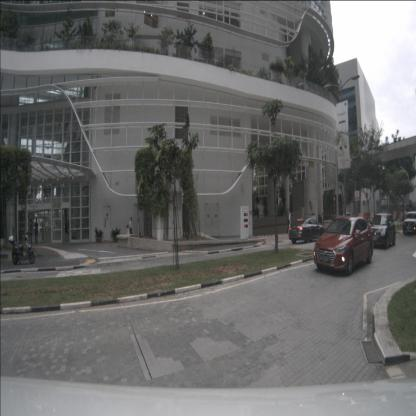human-pedestrian-adult: (28, 218, 33, 244), (34, 218, 39, 244), (129, 217, 133, 243), (287, 211, 291, 235)
vehicle-car: (313, 214, 373, 276), (288, 217, 324, 245), (369, 213, 396, 249), (402, 211, 416, 236)
vehicle-motorcycle: (8, 230, 35, 265)
